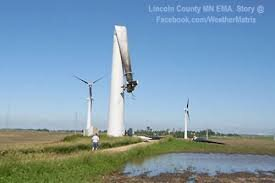faulty: (108, 22, 140, 105)
